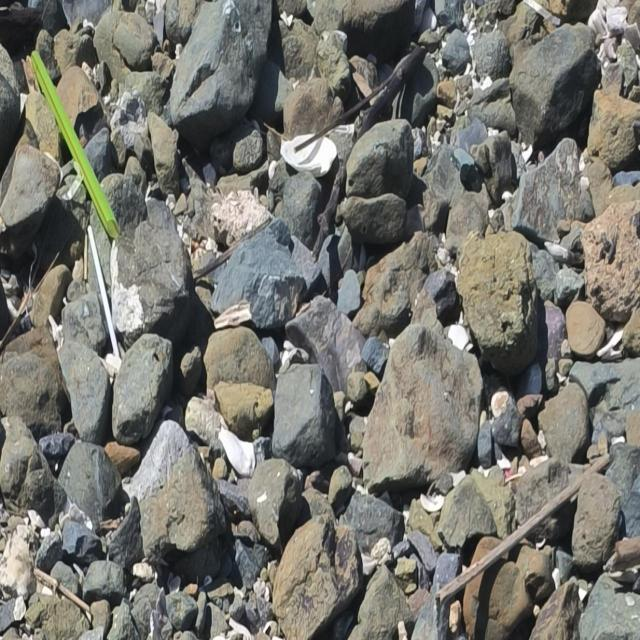plastic_waste: (31, 50, 121, 240), (87, 225, 122, 361)
